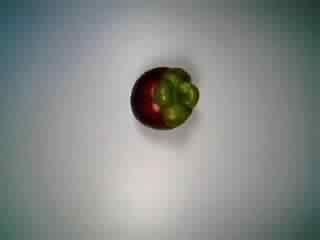mangosteen: (125, 64, 204, 142)
